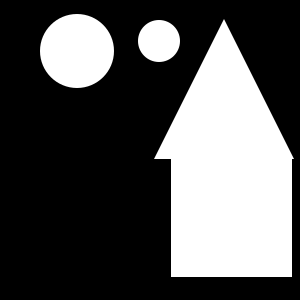circle: (171, 156, 292, 277)
rectangle: (40, 14, 114, 88), (138, 20, 180, 62)
triangle: (154, 19, 294, 159)
